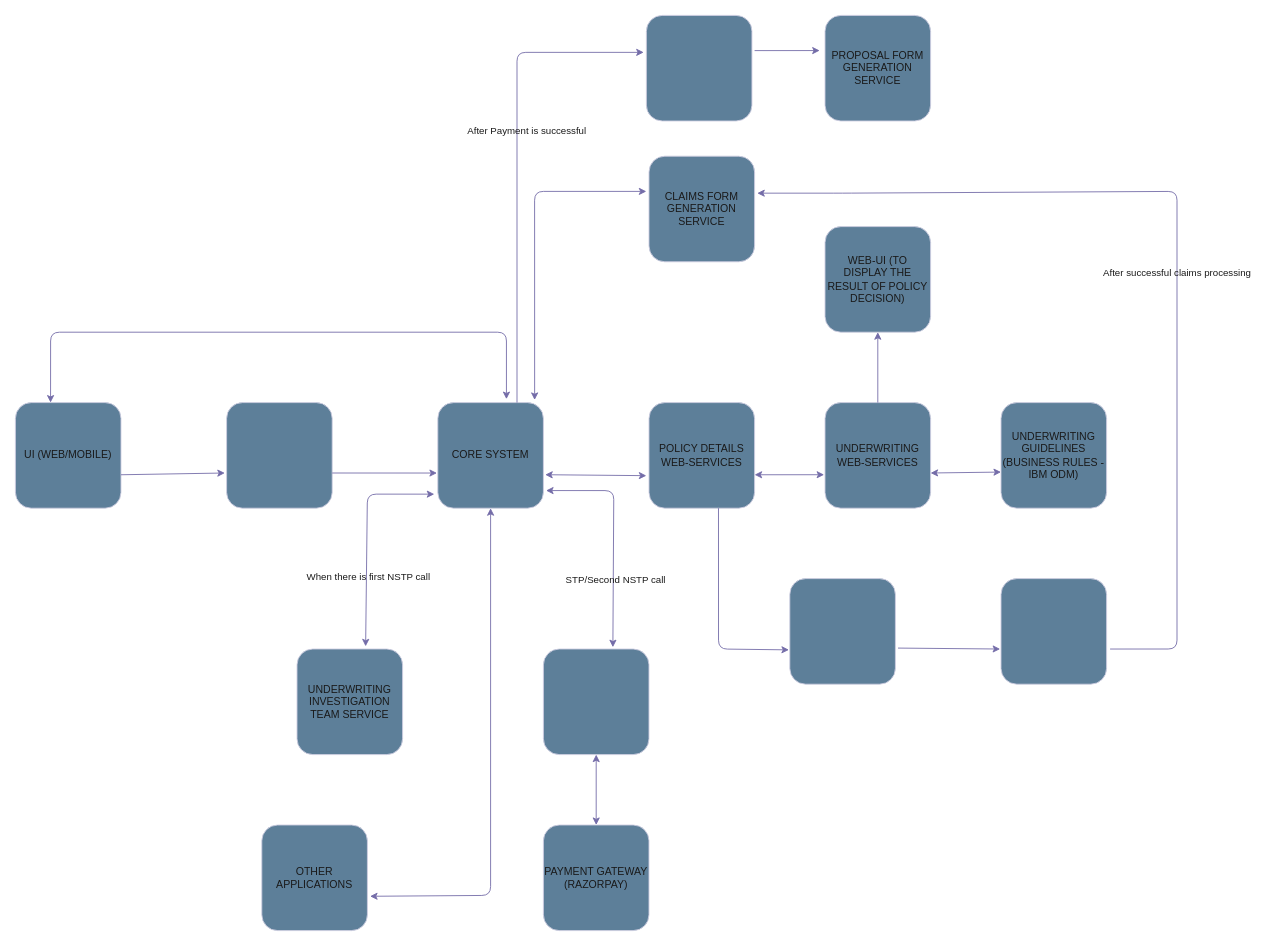
Some shapes in this 1265 by 946 pixel diagram are drawn without their labels. Each missing label, with the box of its shape:
CLAIMS PROCESSING SYSTEM (IBM BPM + IBM ODM): (1000, 578, 1107, 684)
CLAIMS WEB-SERVICES: (789, 578, 895, 684)
NOTIFICATION SERVICE: (645, 15, 752, 121)
PAYMENT SERVICE: (543, 648, 649, 755)
PROPOSAL CREATION SERVICE: (226, 402, 332, 508)
